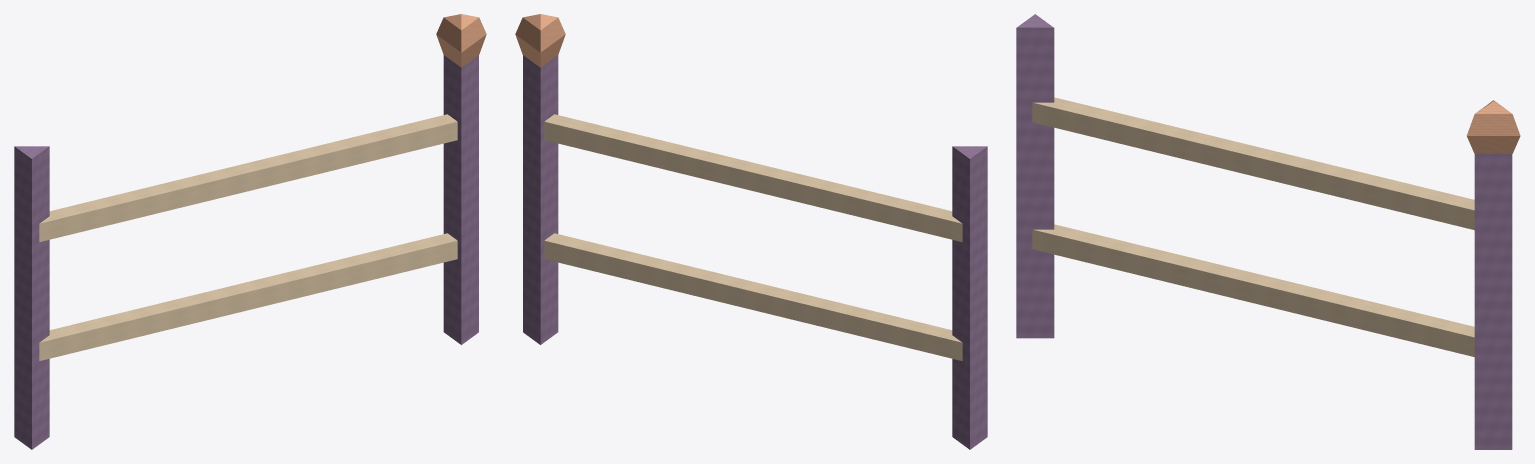
Rendered from atlas100-papercraft-util04.lod1.glb.
3 views of the same model, side by side, from view 1: azimuth 30°, elevation 25°; view 2: azimuth 150°, elevation 25°; view 3: azimuth 330°, elevation 25° (orthographic). The views are drawn at different scales.
Visible parts, largest first — view 1: atlas100-papercraft-util04:part-004, atlas100-papercraft-util04:part-005, atlas100-papercraft-util04:part-000, atlas100-papercraft-util04:part-002, atlas100-papercraft-util04:part-003; view 2: atlas100-papercraft-util04:part-004, atlas100-papercraft-util04:part-005, atlas100-papercraft-util04:part-000, atlas100-papercraft-util04:part-002, atlas100-papercraft-util04:part-003; view 3: atlas100-papercraft-util04:part-004, atlas100-papercraft-util04:part-005, atlas100-papercraft-util04:part-002, atlas100-papercraft-util04:part-000, atlas100-papercraft-util04:part-003.
Part boxes in pixels (x1=…): atlas100-papercraft-util04:part-004: x1=39, y1=233, x2=457, y2=360; atlas100-papercraft-util04:part-005: x1=39, y1=114, x2=457, y2=241; atlas100-papercraft-util04:part-000: x1=14, y1=146, x2=49, y2=449; atlas100-papercraft-util04:part-002: x1=443, y1=55, x2=478, y2=344; atlas100-papercraft-util04:part-003: x1=436, y1=14, x2=486, y2=67; atlas100-papercraft-util04:part-004: x1=544, y1=233, x2=962, y2=360; atlas100-papercraft-util04:part-005: x1=544, y1=114, x2=962, y2=241; atlas100-papercraft-util04:part-000: x1=952, y1=146, x2=987, y2=449; atlas100-papercraft-util04:part-002: x1=523, y1=55, x2=558, y2=344; atlas100-papercraft-util04:part-003: x1=515, y1=14, x2=565, y2=67; atlas100-papercraft-util04:part-004: x1=1032, y1=224, x2=1474, y2=356; atlas100-papercraft-util04:part-005: x1=1032, y1=97, x2=1474, y2=229; atlas100-papercraft-util04:part-002: x1=1474, y1=154, x2=1512, y2=449; atlas100-papercraft-util04:part-000: x1=1016, y1=14, x2=1054, y2=338; atlas100-papercraft-util04:part-003: x1=1466, y1=100, x2=1520, y2=153.
Bounding box in the file's own units: 1.83 × 1.22 × 0.1732.
3 materials, 3 textured.
